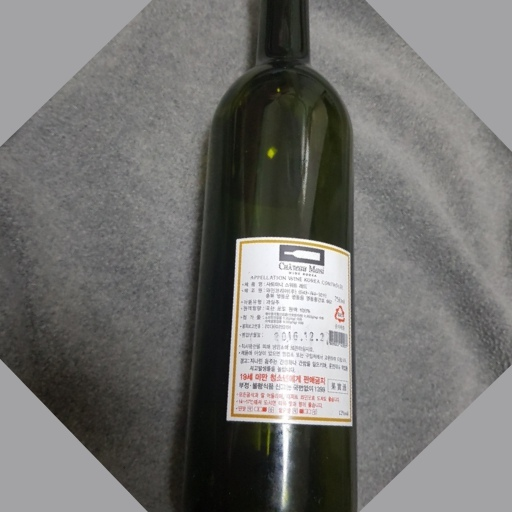Glass_2: (167, 1, 367, 512)
